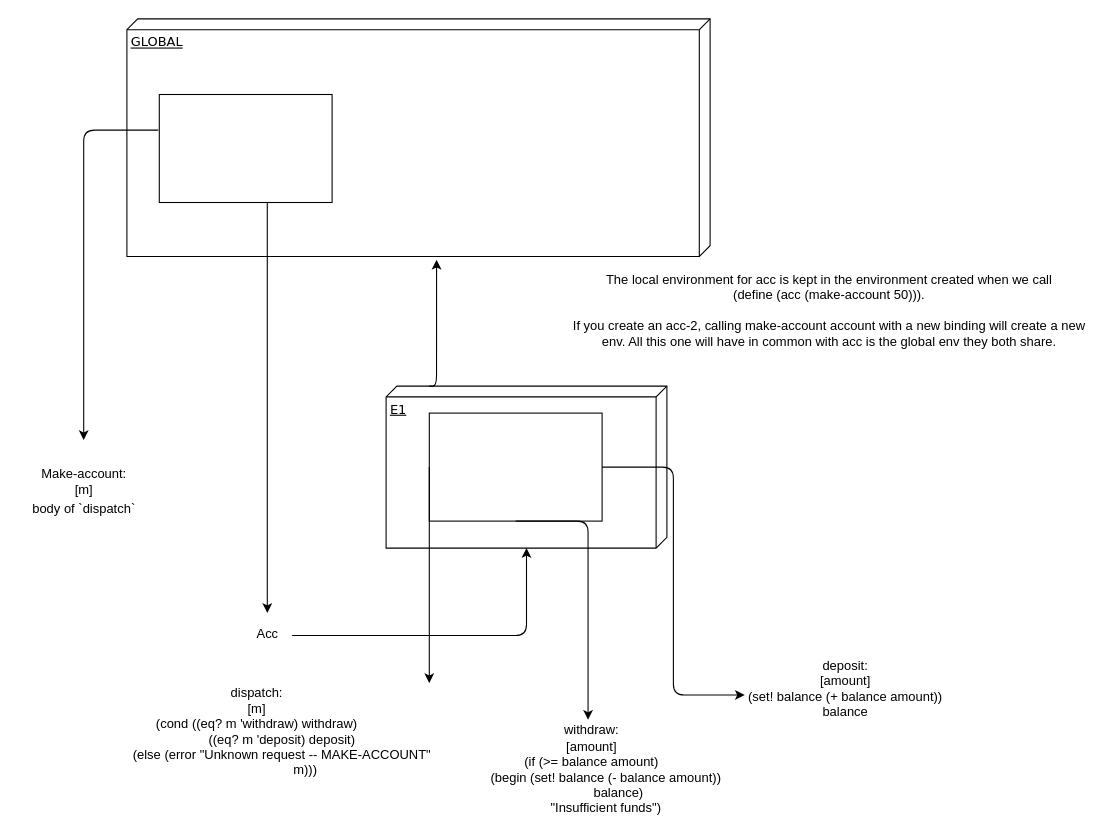
This 1111x837 diagram has some shape labels left out. Each missing label, with the centre of its shape:
"balance: 30 withdraw: proc deposit: proc dispatch: proc" belongs at (x=515, y=466).
"make-account: proc acc: proc" belongs at (x=245, y=147).
